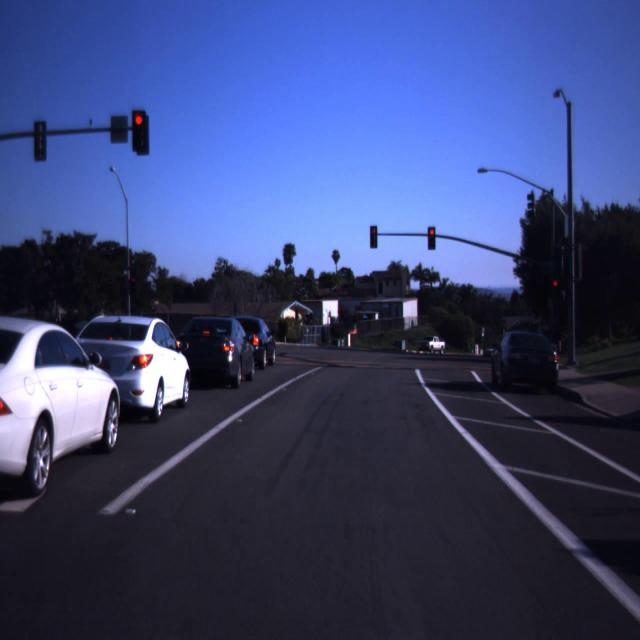stop: (136, 117, 142, 124), (554, 282, 557, 286), (431, 231, 433, 234)
stop left: (372, 228, 376, 234)
stop left traffic light: (368, 225, 380, 251)
stop traffic light: (130, 114, 148, 144), (551, 280, 560, 298), (429, 229, 435, 243)
